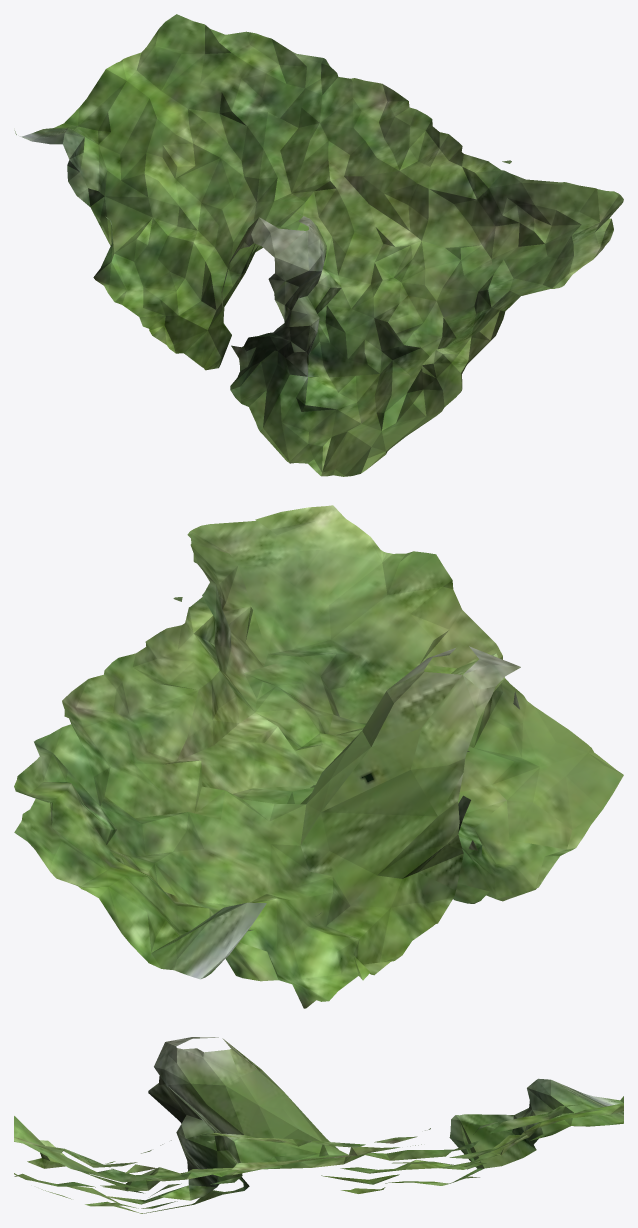
3 renders of one model, top to bottom at view 1: azimuth 30°, elevation 25°; view 2: azimuth 150°, elevation 25°; view 3: azimuth 270°, elevation 25°, orthographic. The views are drawn at different scales.
Bounding box in the file's own units: 13.49 × 8.64 × 26.11.
2 materials, 2 textured.
